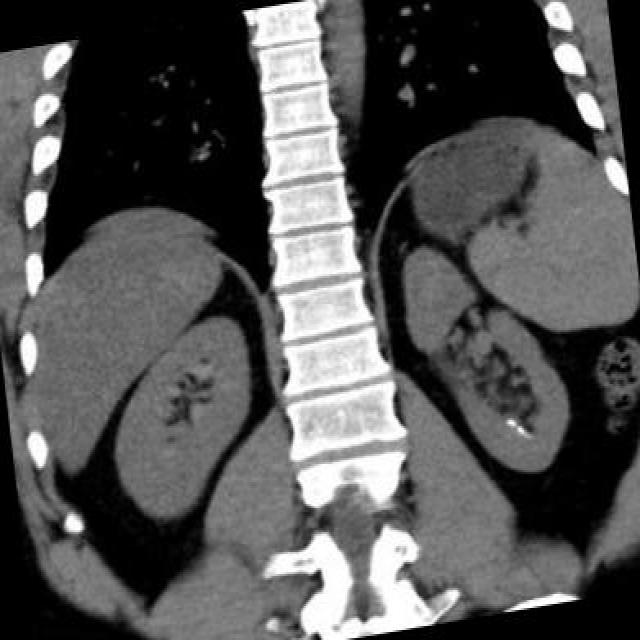Tas_Var: (503, 416, 518, 428), (514, 424, 525, 434)
